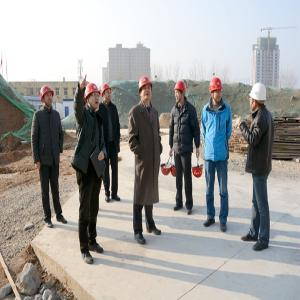red: (83, 85, 101, 111), (138, 76, 154, 104), (210, 78, 226, 104), (41, 85, 56, 108), (100, 81, 114, 104), (174, 81, 187, 104)
white: (250, 83, 267, 111)
